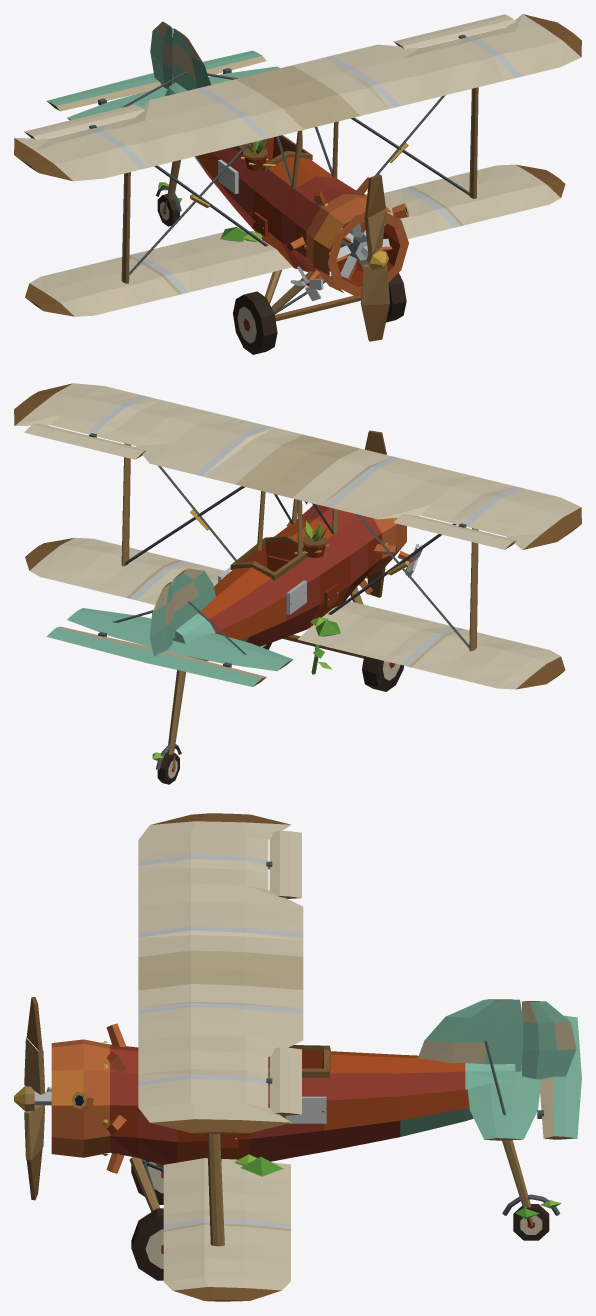
Rendered from scrap-built-aeroplane-65ac95.glb.
3 views of the same model, one above another, from view 1: azimuth 30°, elevation 25°; view 2: azimuth 150°, elevation 25°; view 3: azimuth 270°, elevation 25° (orthographic). The views are drawn at different scales.
Visible parts, largest first — view 1: airframe, prop-mesh, elevator-mesh, wheel-l-mesh, aileron-l-mesh, aileron-r-mesh, rudder-mesh, wheel-r-mesh, planter-mesh, tail-skid-mesh, tail-wheel; view 2: airframe, elevator-mesh, aileron-l-mesh, aileron-r-mesh, rudder-mesh, wheel-l-mesh, tail-skid-mesh, prop-mesh, planter-mesh, tail-wheel; view 3: airframe, rudder-mesh, prop-mesh, elevator-mesh, aileron-r-mesh, aileron-l-mesh, wheel-r-mesh, tail-skid-mesh, tail-wheel.
Part boxes in pixels (x1,y1,x2,y2): airframe: (14, 14, 581, 321); prop-mesh: (360, 174, 389, 341); elevator-mesh: (47, 50, 266, 111); wheel-l-mesh: (233, 291, 277, 354); aileron-l-mesh: (24, 104, 144, 139); aileron-r-mesh: (393, 14, 515, 48); rudder-mesh: (150, 21, 172, 88); wheel-r-mesh: (386, 273, 406, 322); planter-mesh: (240, 138, 275, 170); tail-skid-mesh: (156, 160, 182, 212); tail-wheel: (157, 194, 179, 226); airframe: (14, 383, 581, 689); elevator-mesh: (46, 626, 266, 686); aileron-l-mesh: (393, 514, 516, 549); aileron-r-mesh: (24, 423, 145, 459); rudder-mesh: (149, 581, 172, 656); wheel-l-mesh: (362, 656, 403, 691); tail-skid-mesh: (152, 670, 186, 769); prop-mesh: (365, 430, 386, 597); planter-mesh: (294, 521, 329, 557); tail-wheel: (157, 752, 179, 784); airframe: (34, 813, 540, 1301); rudder-mesh: (522, 1001, 576, 1079); prop-mesh: (14, 997, 45, 1200); elevator-mesh: (537, 1015, 581, 1139); aileron-r-mesh: (266, 1047, 301, 1115); aileron-l-mesh: (266, 830, 301, 898); wheel-r-mesh: (131, 1208, 163, 1280); tail-skid-mesh: (502, 1140, 561, 1225); tail-wheel: (513, 1204, 549, 1240).
Size of the model in its own units: 8 by 3.19 by 6.03.
